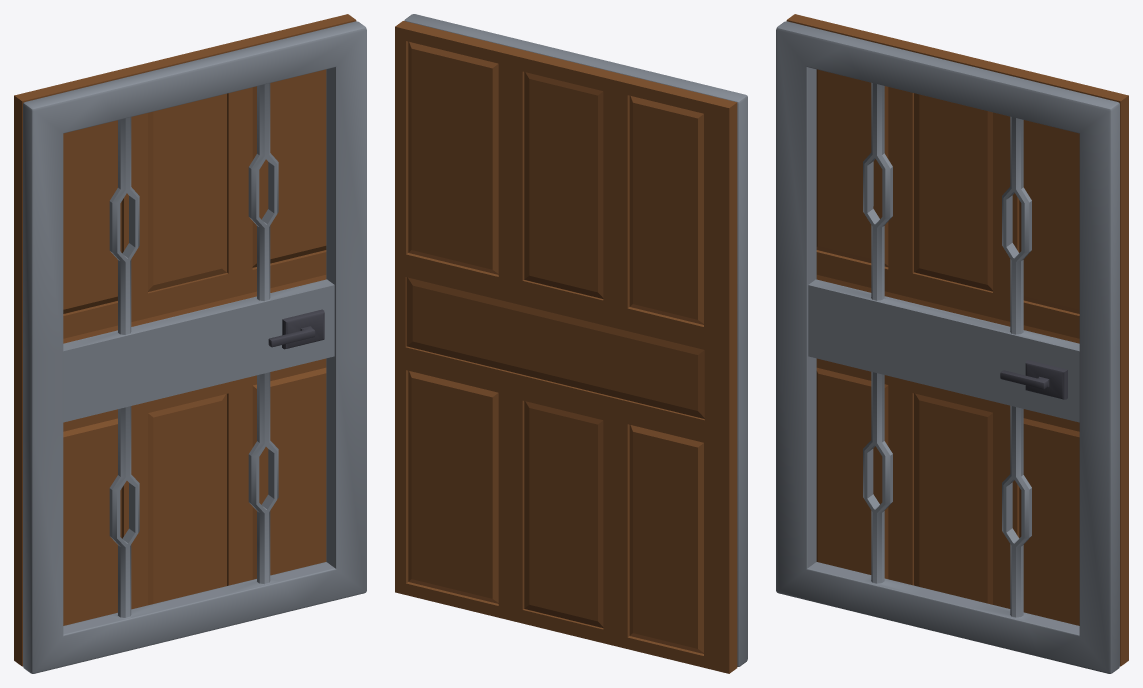
Rendered from MP_Door_Opening.fbx.
3 views of the same model, side by side, from view 1: azimuth 30°, elevation 25°; view 2: azimuth 150°, elevation 25°; view 3: azimuth 330°, elevation 25° (orthographic).
Parts seen in each view (by area): view 1: Cube, Gate; view 2: Cube, Gate; view 3: Cube, Gate.
Part boxes in pixels (<box>): Cube: <box>14,14,356,666</box>; Gate: <box>23,21,366,673</box>; Cube: <box>395,21,737,673</box>; Gate: <box>404,14,747,666</box>; Cube: <box>786,14,1128,666</box>; Gate: <box>776,21,1119,673</box>.
Bounding box in the file's own units: 111 × 178 × 15.09.
